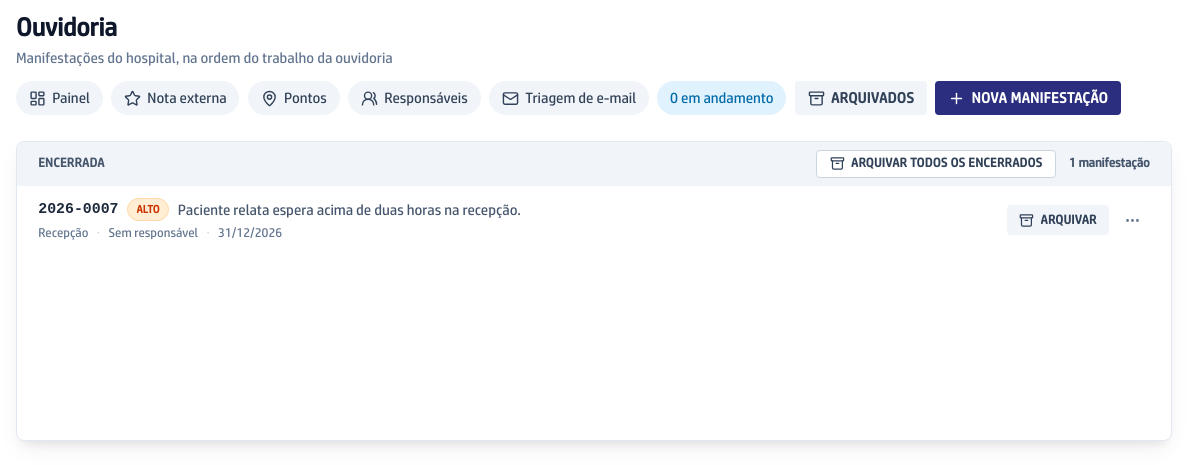
Test: o filtro Arquivados nasce desligado (ADR 0047, decisão 4) › ligar o filtro pede a outra lista e troca o que está na tela
Expected: the text "2026-0007" is shown, [38, 199, 119, 220]
Click the button "Arquivados": (861, 98) [795, 81, 927, 115]
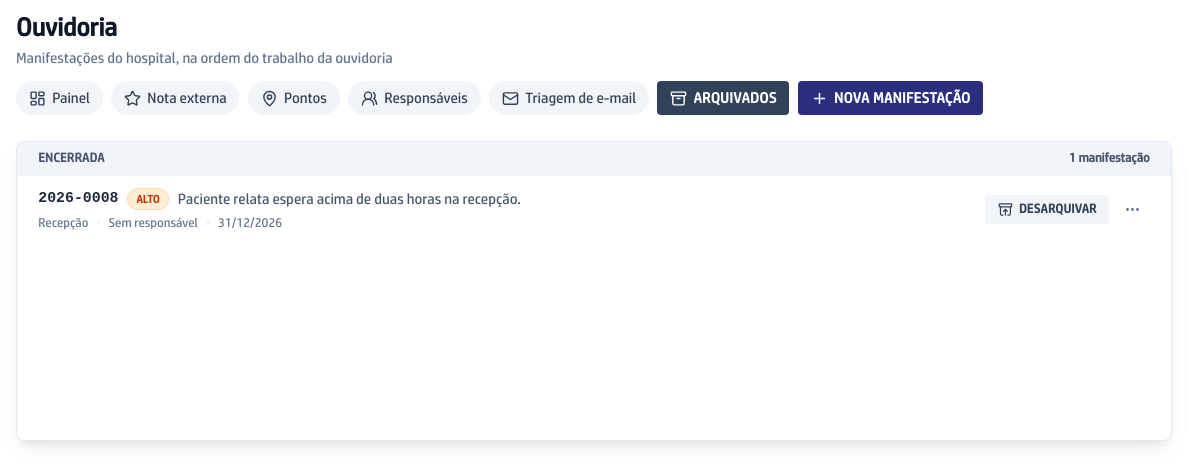
Expected: the text "2026-0008" is shown, [38, 188, 119, 210]
Expected: the text "2026-0007" is gone
